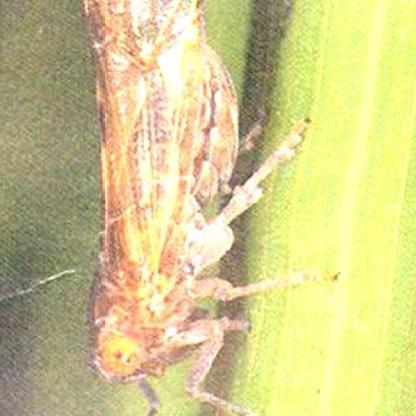brown-planthopper: (79, 1, 239, 388)
